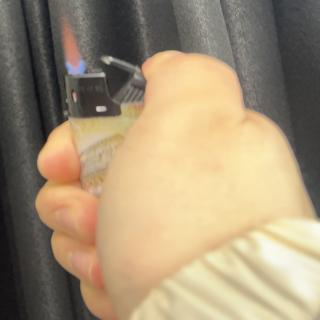fire: (62, 16, 88, 74)
